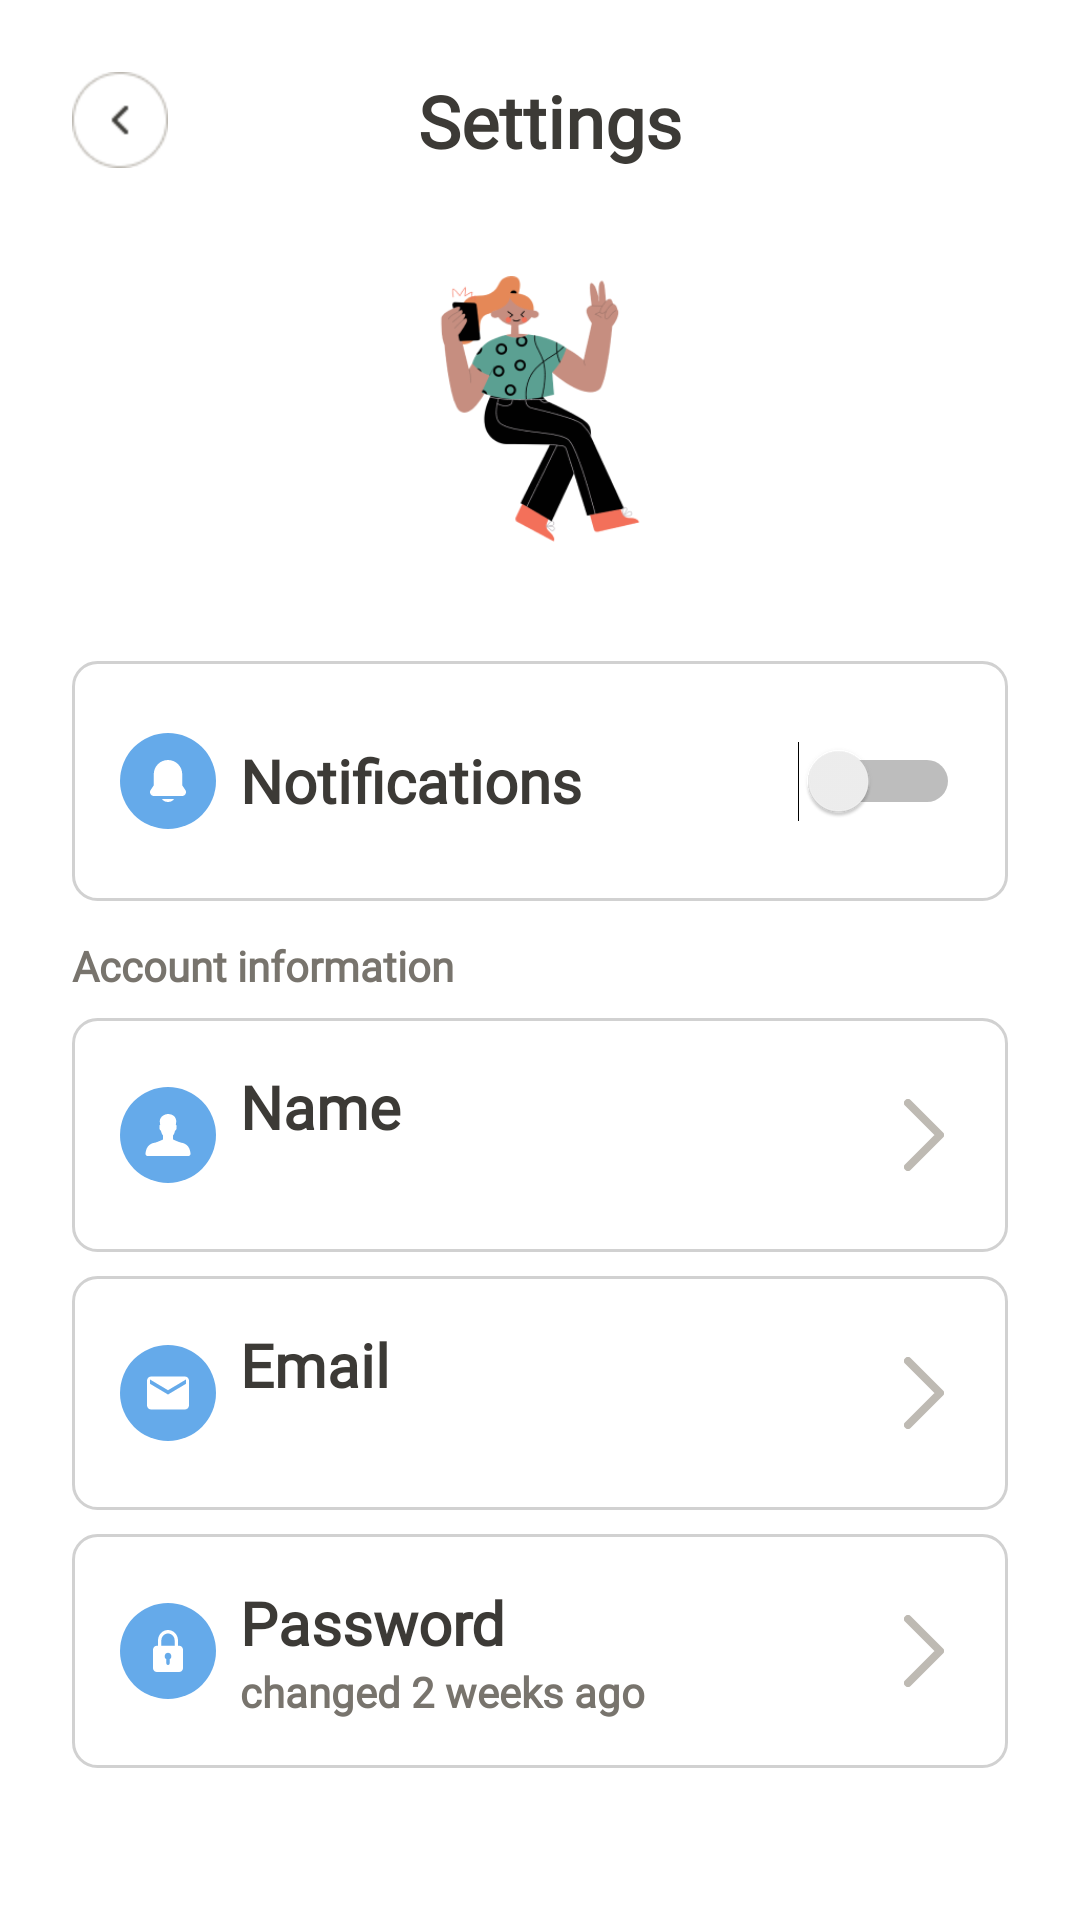

Locate icon controls on the screen. Image size 1080 × 1920, boxes as rect(x1, y1, x2, y2).
back: rect(72, 72, 168, 168)
Profile Image: rect(441, 276, 639, 542)
User Icon: rect(120, 1087, 216, 1183)
